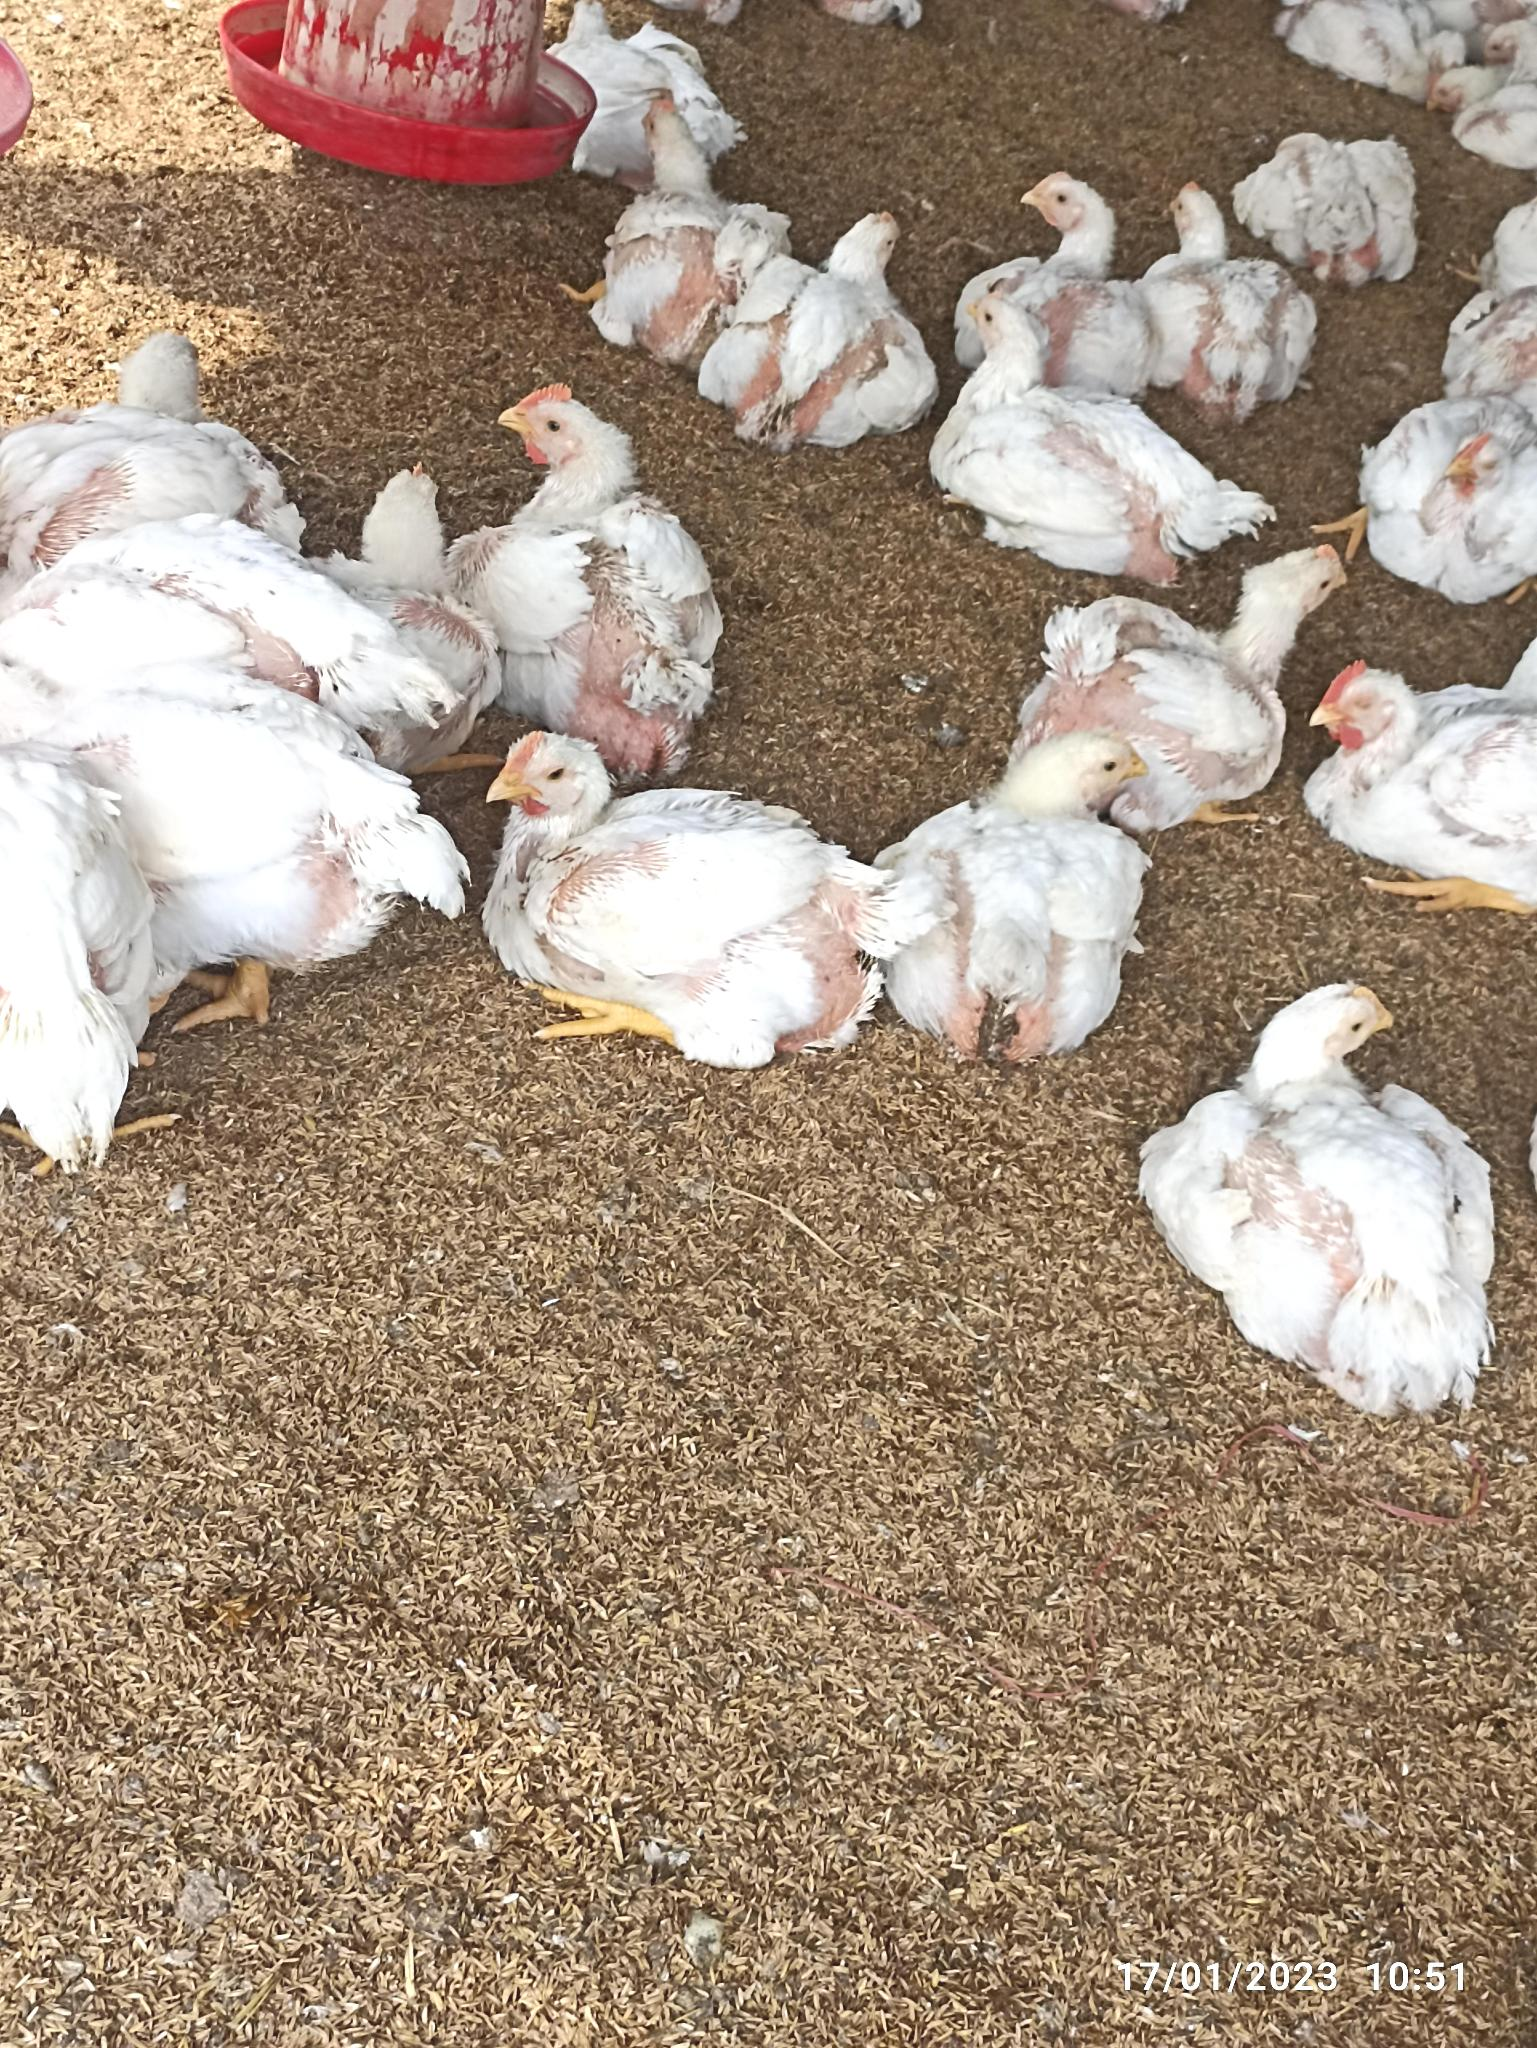Pollos: (1158, 972, 1508, 1427), (6, 623, 438, 988), (484, 731, 886, 1043), (450, 374, 710, 763), (1028, 537, 1346, 834), (893, 720, 1145, 1051), (2, 308, 299, 586), (936, 302, 1271, 536), (1321, 670, 1537, 930), (746, 205, 940, 442), (593, 98, 749, 336), (1150, 187, 1309, 399), (1367, 395, 1537, 592), (1287, 136, 1427, 282), (1024, 171, 1137, 321)
